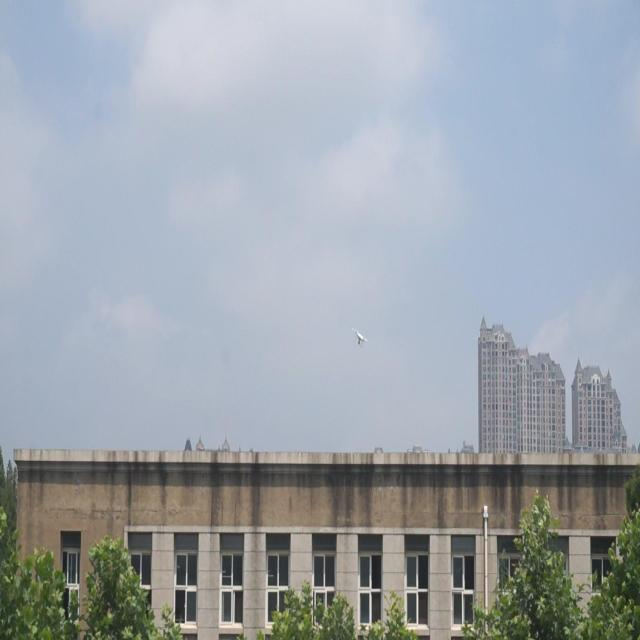drone: (353, 328, 368, 350)
